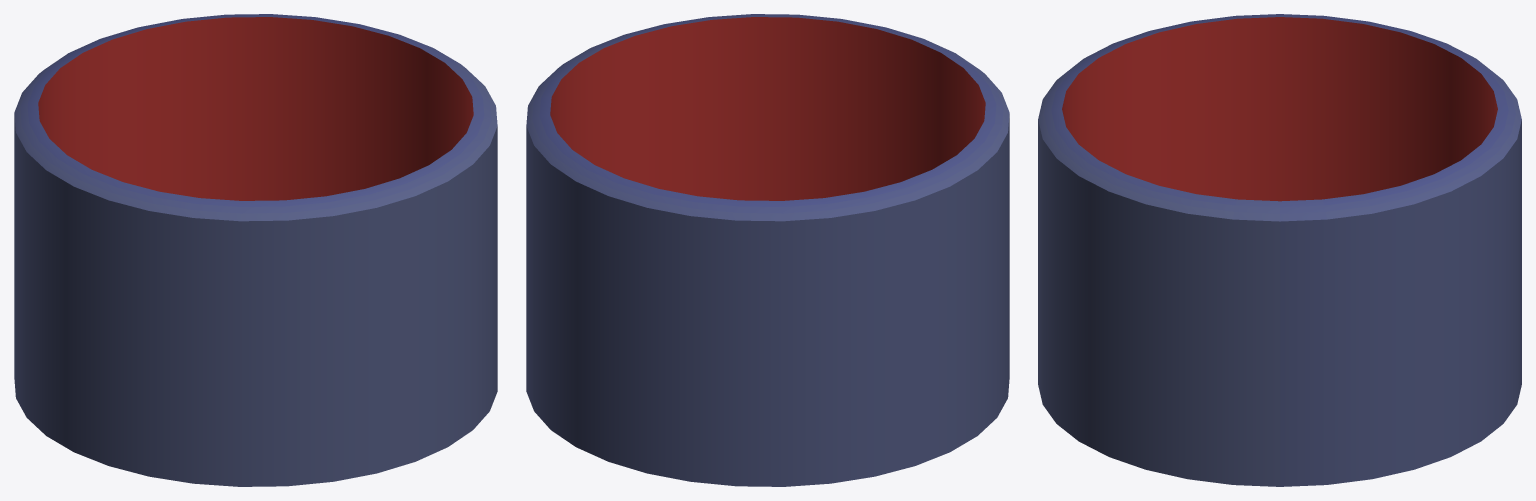
File: Button_Sleeve_03.fbx
3 renders of one model, left to right at view 1: azimuth 30°, elevation 25°; view 2: azimuth 150°, elevation 25°; view 3: azimuth 270°, elevation 25°, orthographic.
Visible parts, largest first — view 1: Sleeve_03; view 2: Sleeve_03; view 3: Sleeve_03.
Boxes of the visible parts, left/top/right/bottom form: Sleeve_03: left=14, top=14, right=497, bottom=486; Sleeve_03: left=526, top=14, right=1009, bottom=486; Sleeve_03: left=1038, top=14, right=1521, bottom=486.
Size of the model in its own units: 2.8 by 1.76 by 2.8.
